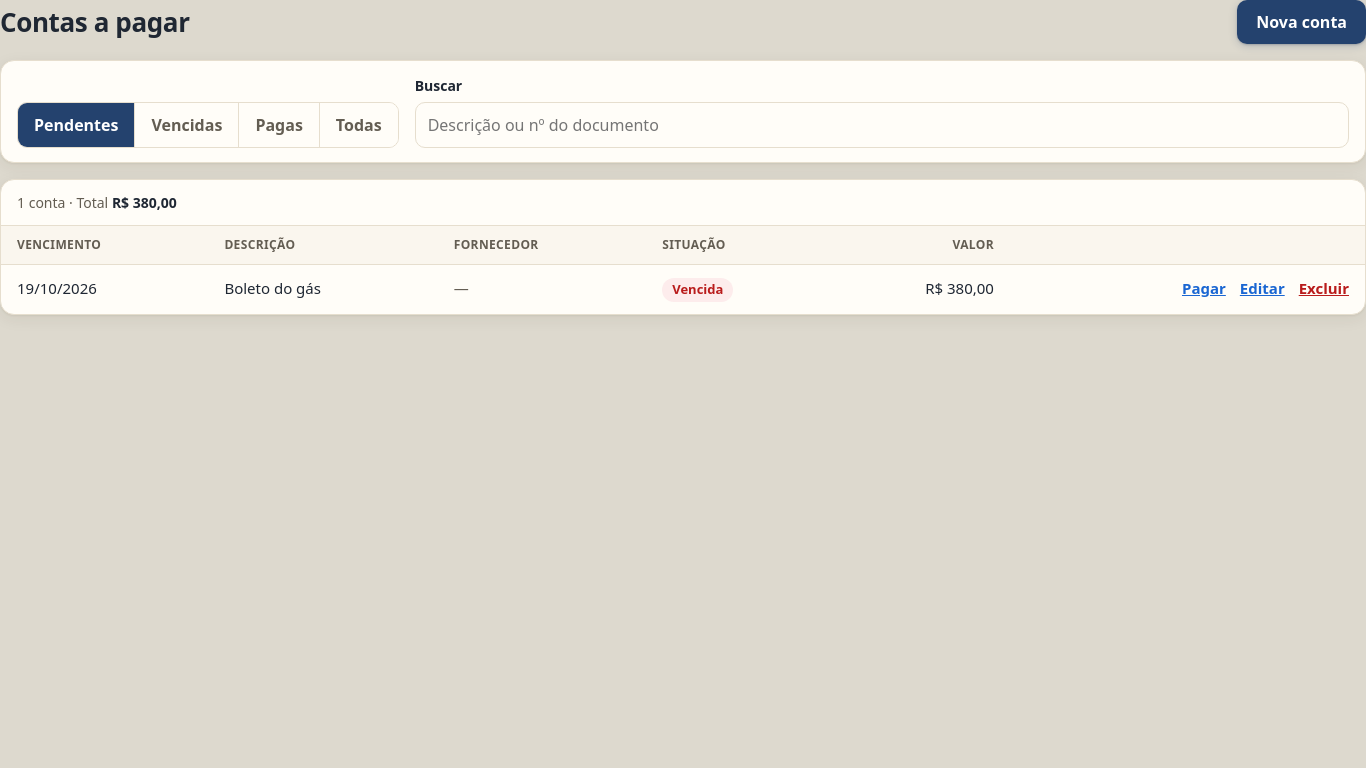
Test: Contas a pagar › mostra o erro do backend ao pagar
Click the button with aria-label "Pagar Boleto do gás".
click(1204, 288)  # box left=1182, top=277, right=1226, bottom=300
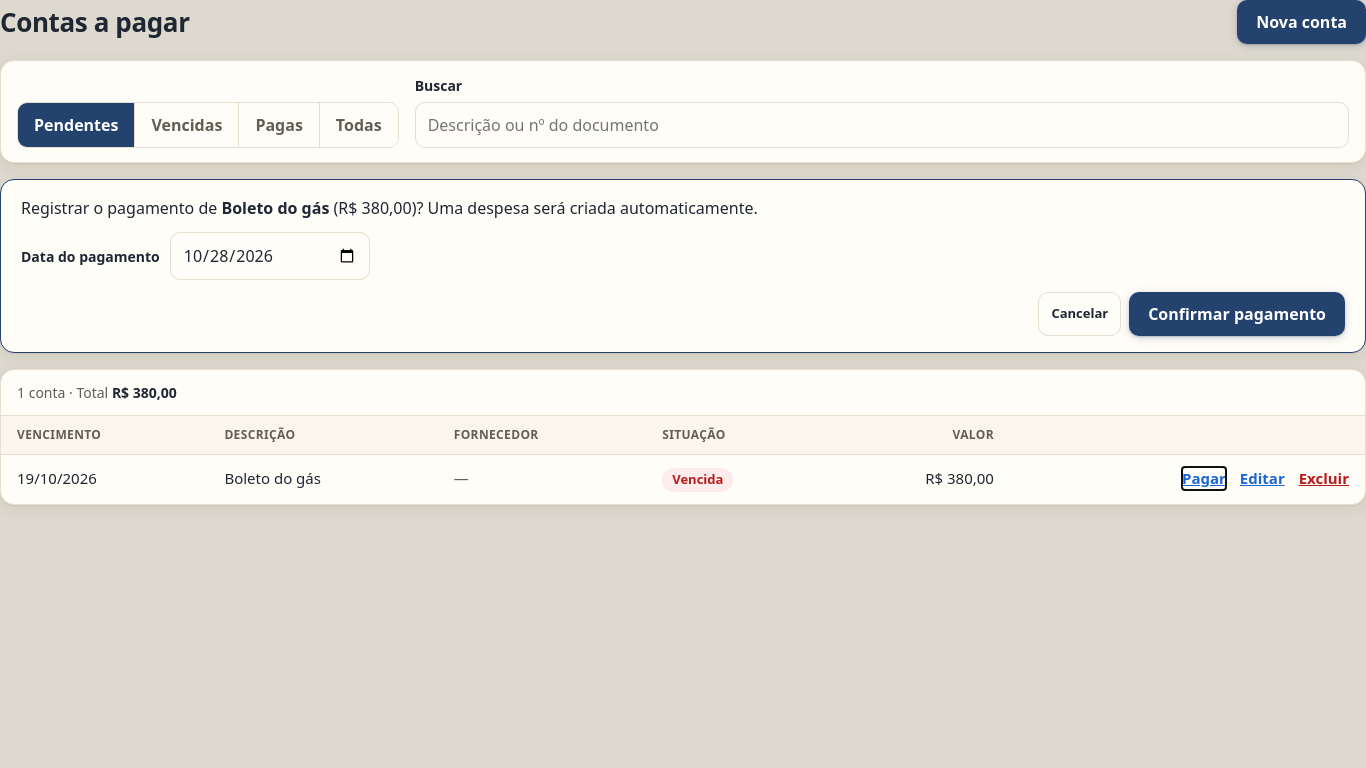
Click the button "Confirmar pagamento".
click(1237, 314)  # box left=1129, top=292, right=1345, bottom=336
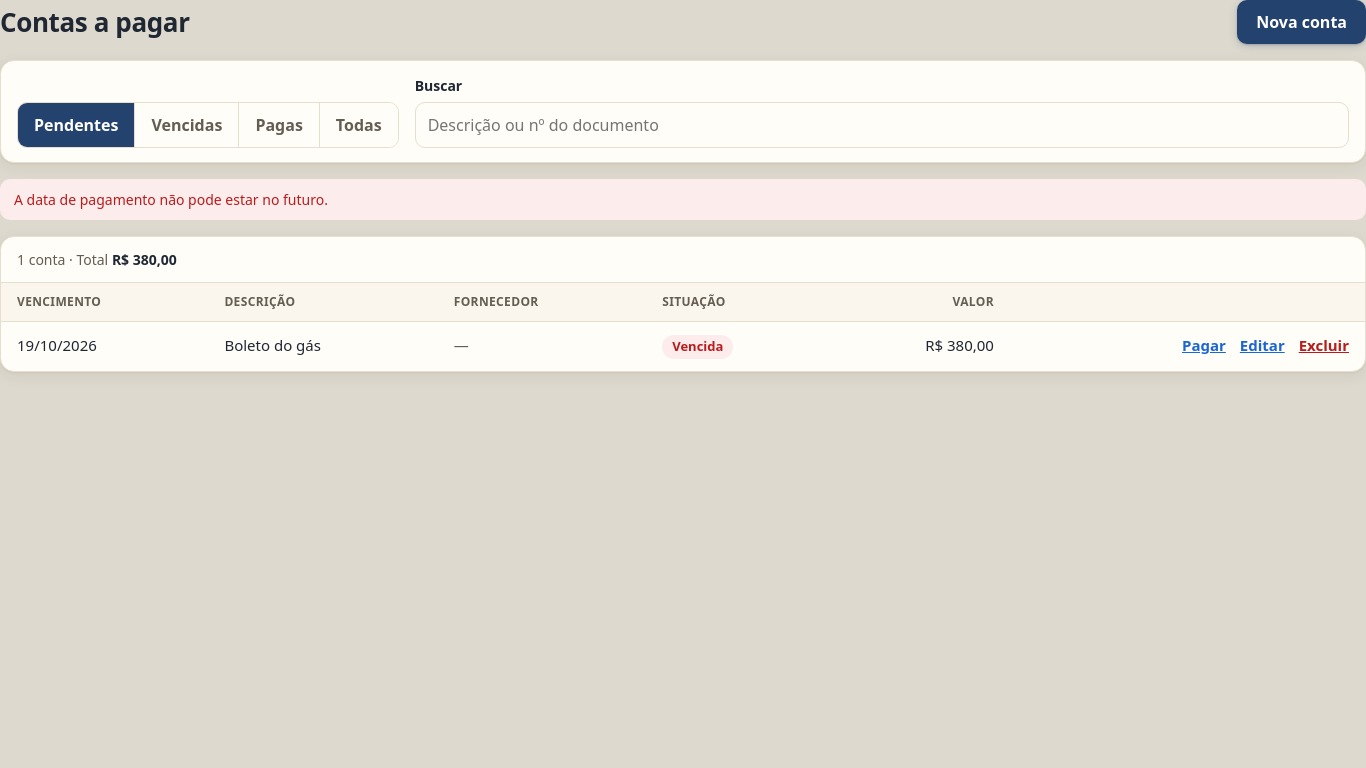
Expected: the message reads "A data de pagamento não pode estar no futuro.", left=14, top=190, right=328, bottom=209
